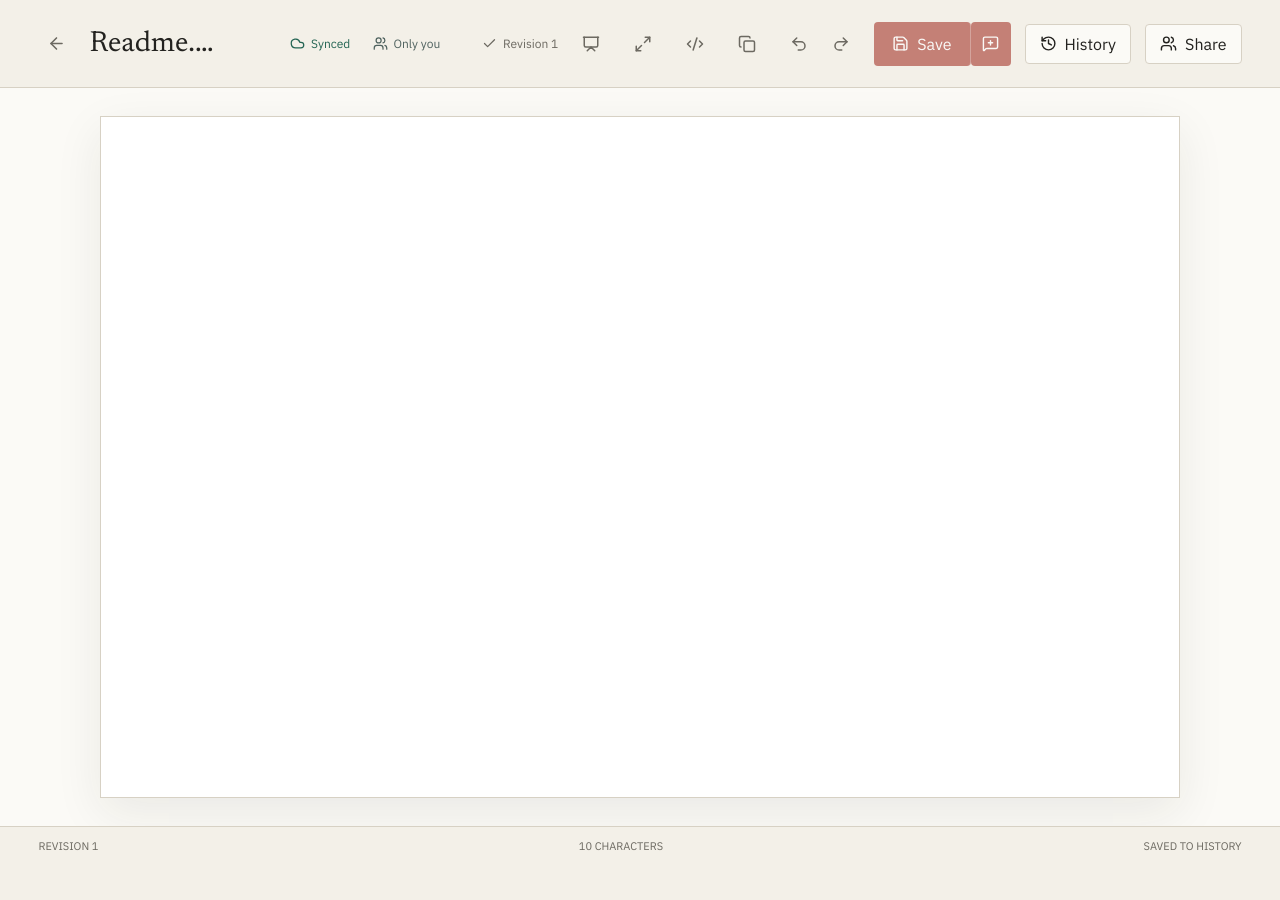
DocumentEditor › lets owners grant an existing account editor access
Step 1. Click the button "Share" → (1193, 44), box [1145,24,1242,64]
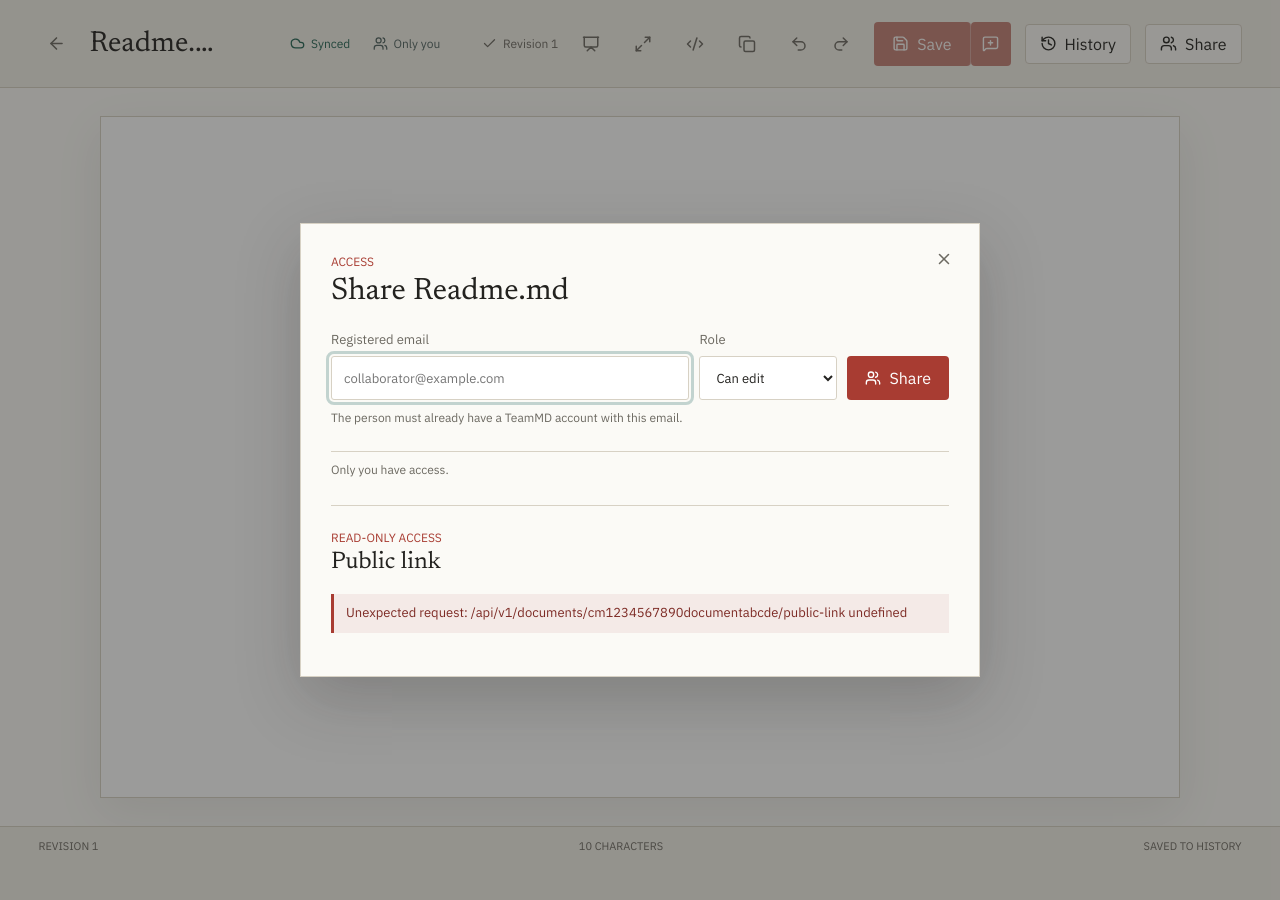
Step 2. Type "collaborator@example.test" into the field labelled "Registered email" → (510, 378), box [331,356,690,400]
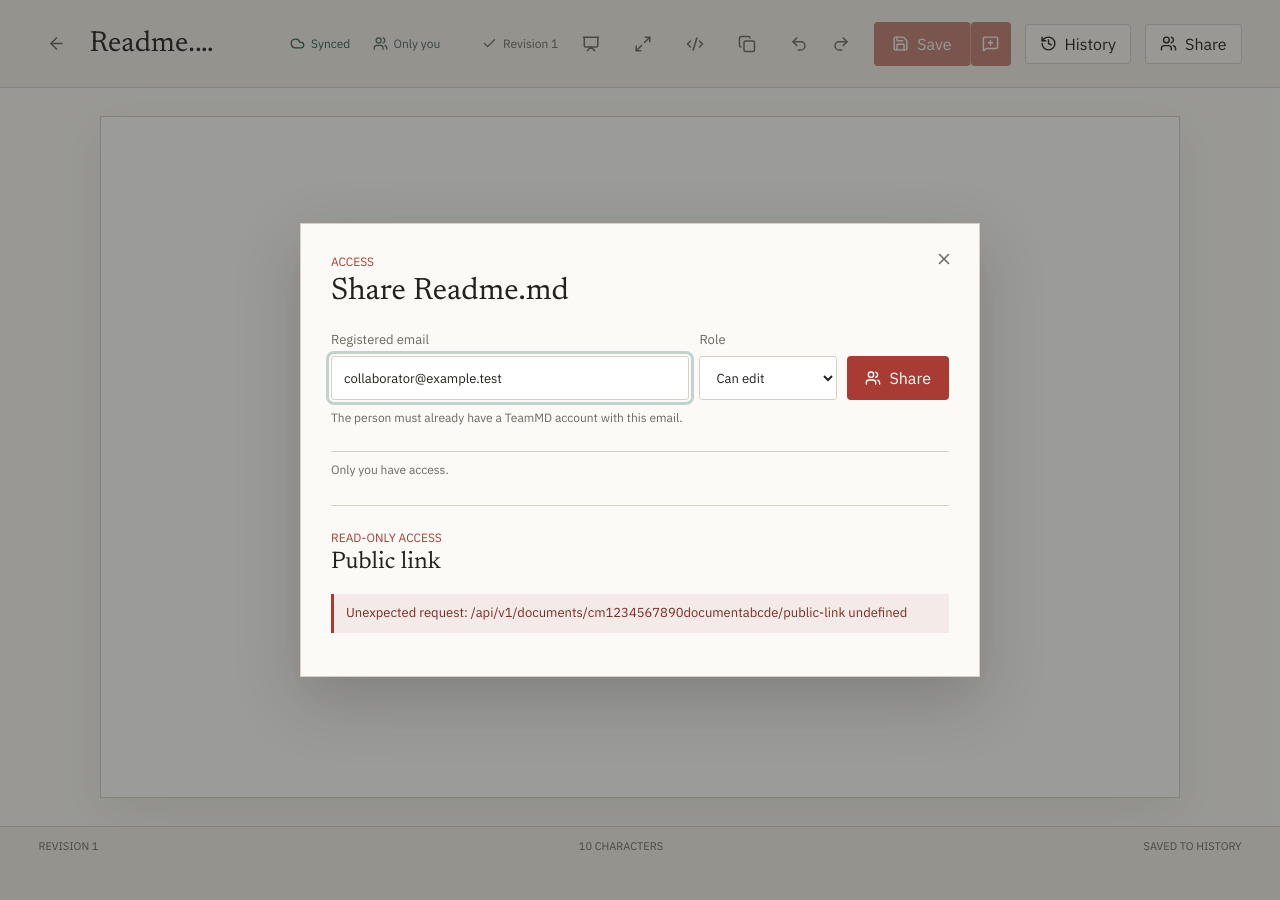
Step 3. Click the button with aria-label "Share document" → (898, 378), box [848,356,949,400]
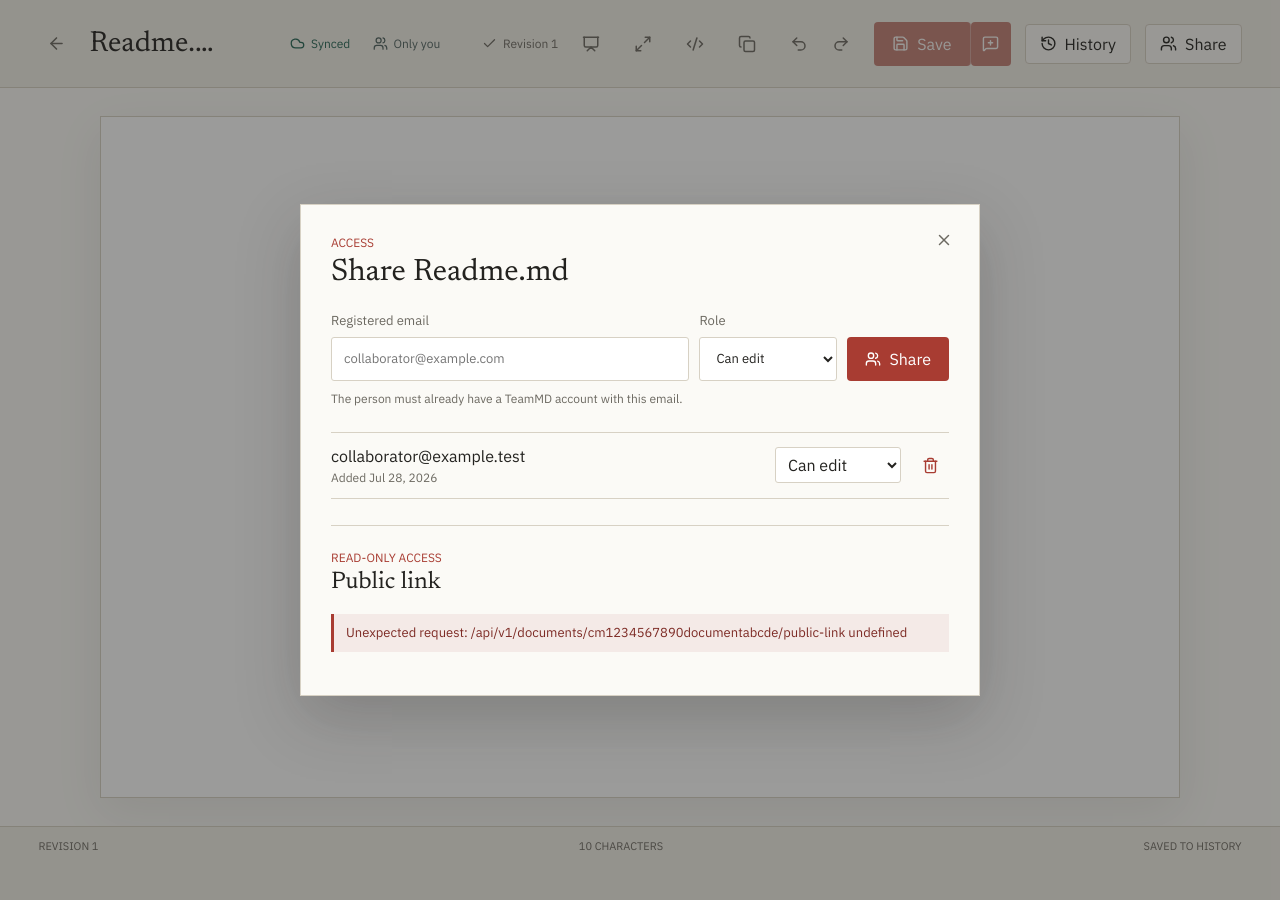
Result: the text "collaborator@example.test" is shown at [331,446,525,466]
